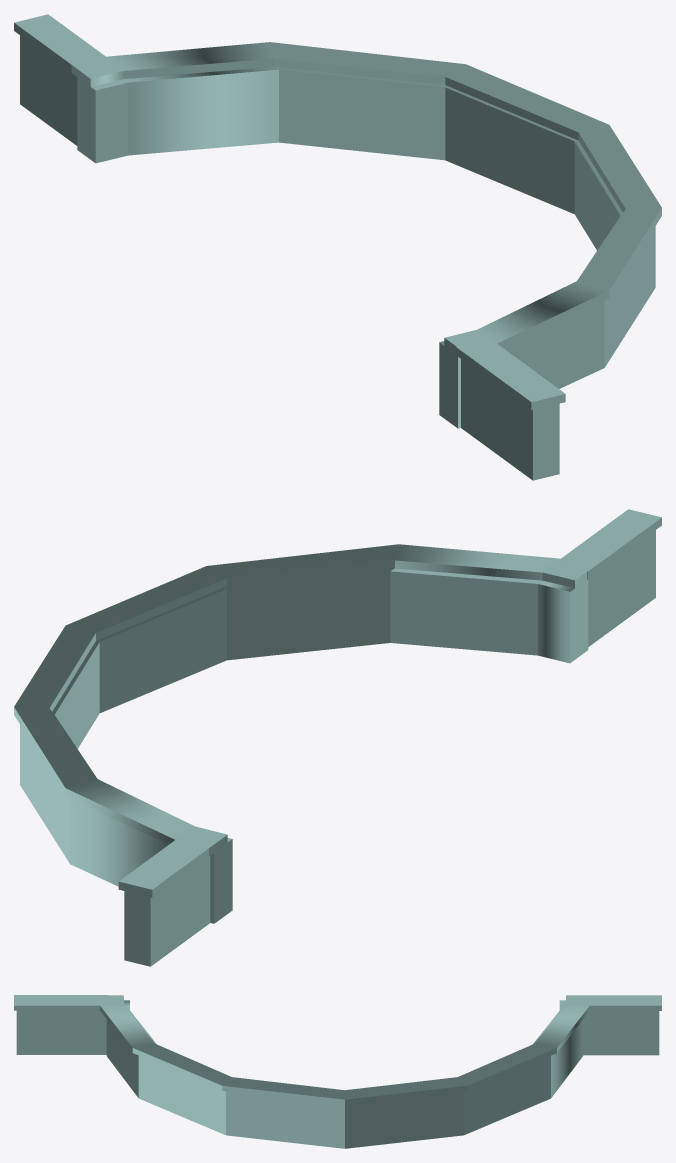
The picture shows the model from 3 angles, top to bottom: view 1: azimuth 30°, elevation 25°; view 2: azimuth 150°, elevation 25°; view 3: azimuth 270°, elevation 25°; orthographic projection. The views are drawn at different scales.
Visible parts, largest first — view 1: Object004; view 2: Object004; view 3: Object004.
Boxes of the visible parts, <box> form: Object004: <box>14,14,661,480</box>; Object004: <box>14,509,661,966</box>; Object004: <box>14,995,661,1148</box>.
Bounding box in the file's own units: 695 × 157 × 1820.
